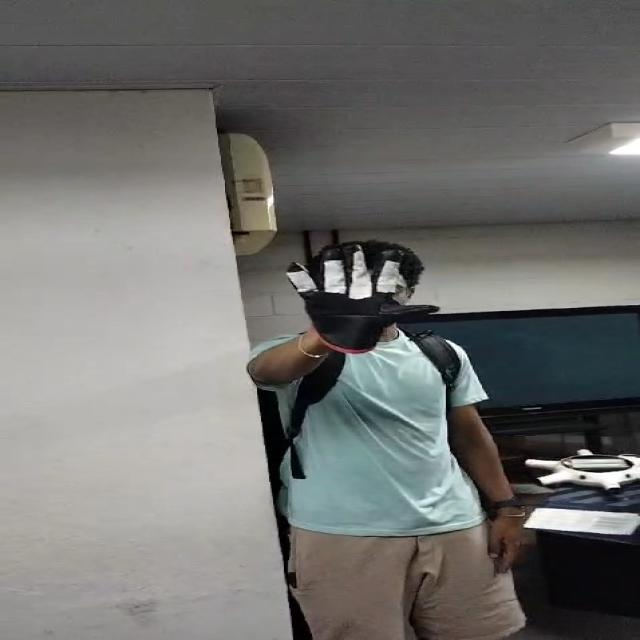Gloves: (268, 245, 445, 354)
